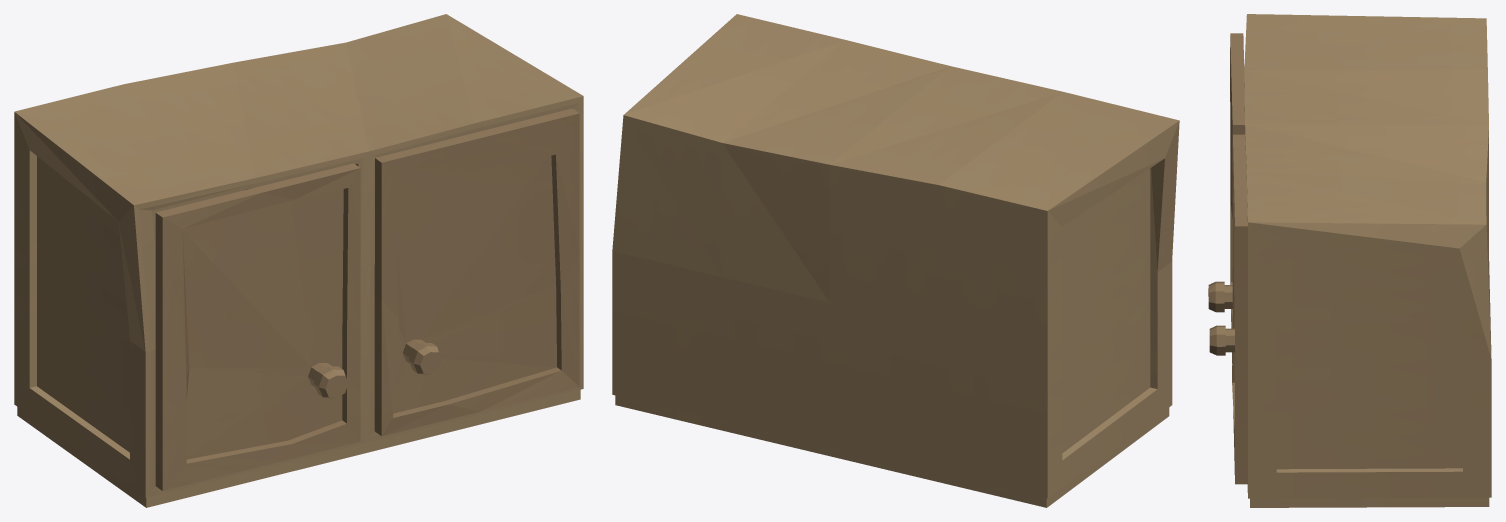
File: shelf_3_B.obj
3 renders of one model, left to right at view 1: azimuth 30°, elevation 25°; view 2: azimuth 150°, elevation 25°; view 3: azimuth 270°, elevation 25°, orthographic. The views are drawn at different scales.
Parts seen in each view (by area): view 1: shelf_3_B_Material; view 2: shelf_3_B_Material; view 3: shelf_3_B_Material.
Part boxes in pixels (bbox=[...]): shelf_3_B_Material: bbox=[14, 14, 583, 507]; shelf_3_B_Material: bbox=[612, 14, 1179, 507]; shelf_3_B_Material: bbox=[1208, 14, 1491, 507].
Bounding box in the file's own units: 0.7706 × 0.498 × 0.4443.
